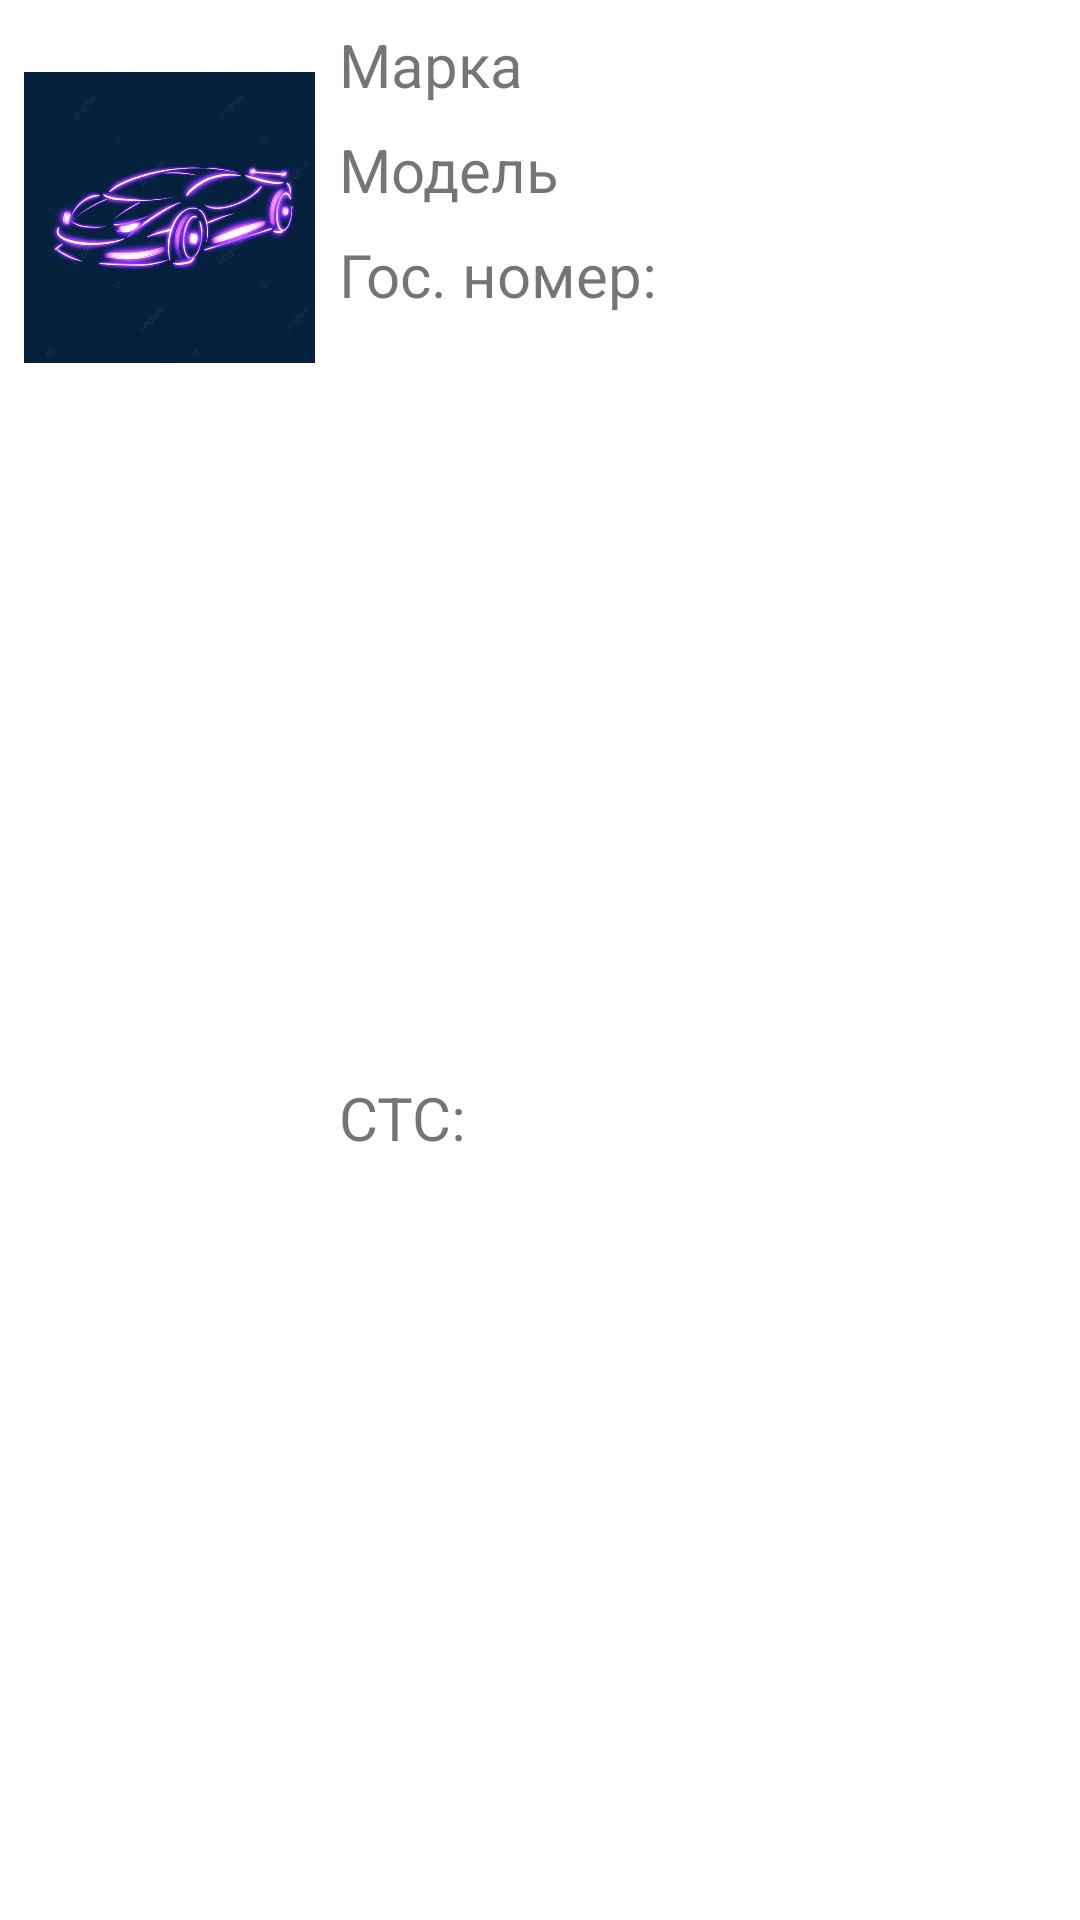

Screen size 1080px x 1920px. Icon name, then its center in pixels as point (x, y):
car: point (169, 217)
